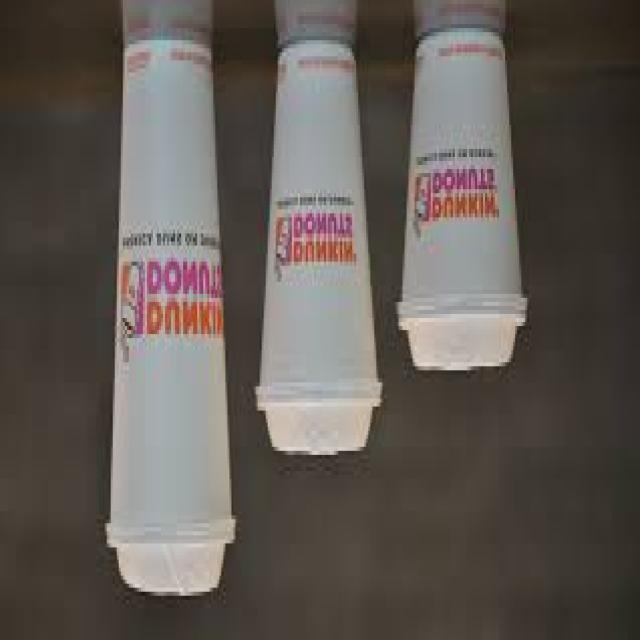styrofoam: (106, 39, 235, 595)
